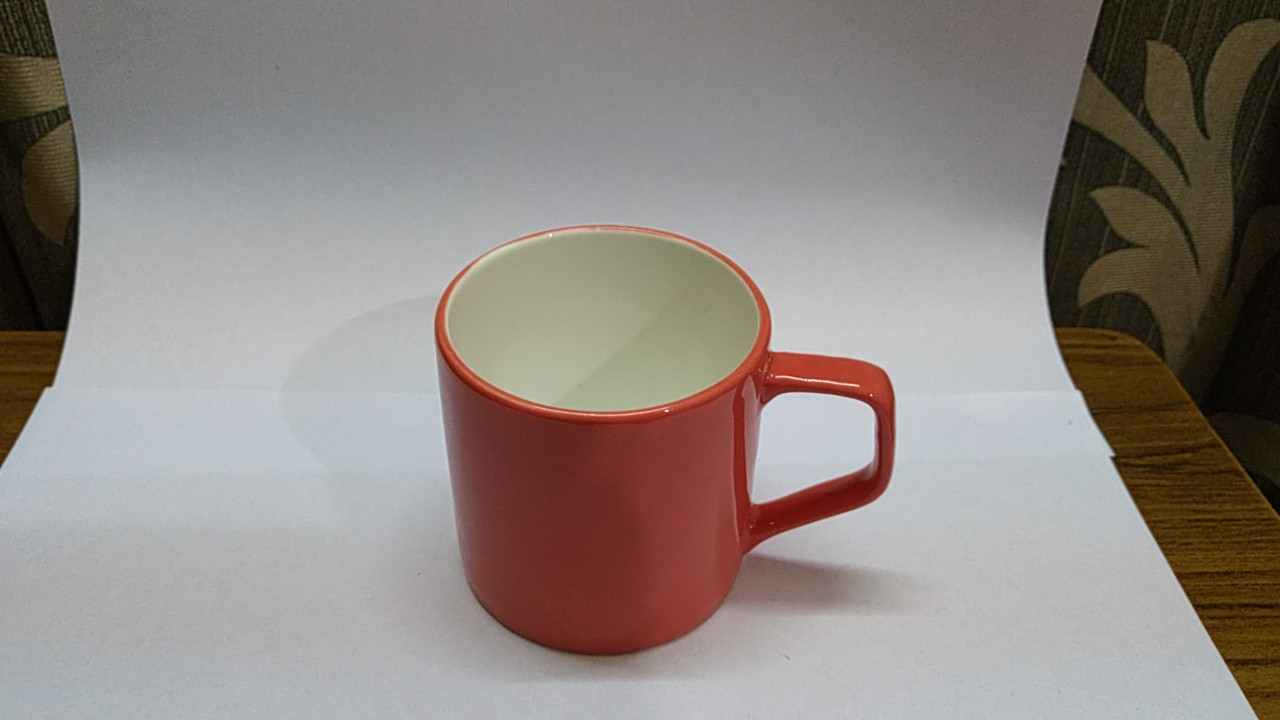cup: (419, 212, 908, 665)
